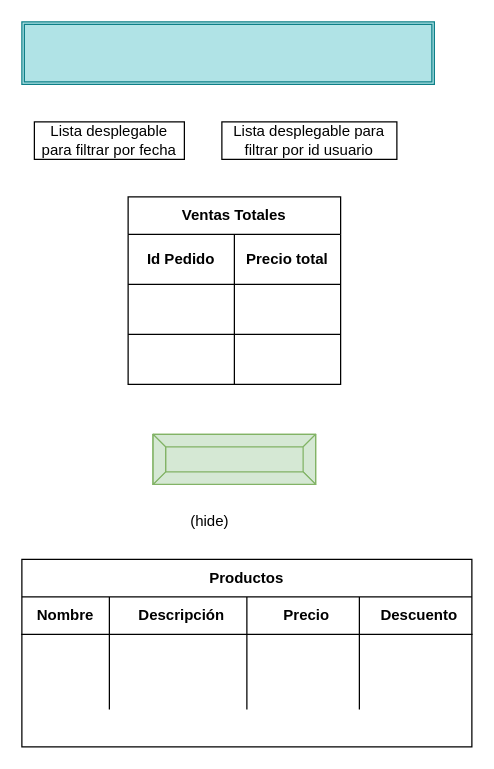
This 494x769 diagram has some shape labels left out. Here are the shapes that lost their labels. From the top down, the centre of each, then its label:
At (227,52): "Usuarios / Productos / Pedidos / Facturas /Ventas".
At (234,458): "Consultar productos".
